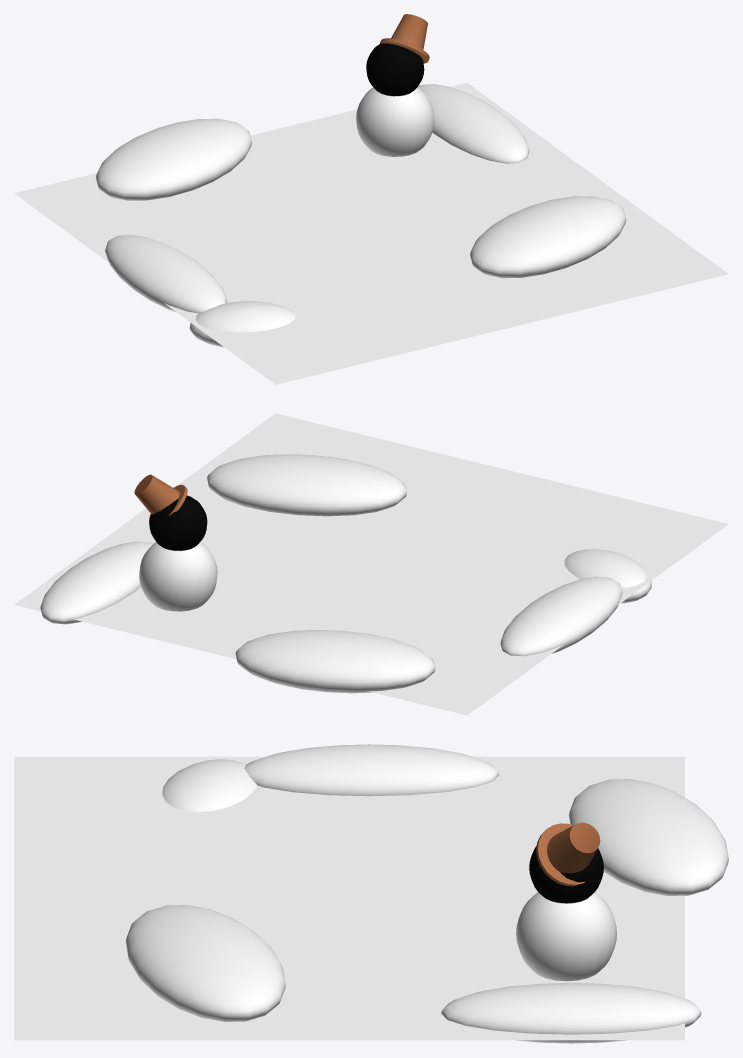
File: snow.obj
3 renders of one model, top to bottom at view 1: azimuth 30°, elevation 25°; view 2: azimuth 150°, elevation 25°; view 3: azimuth 270°, elevation 25°, orthographic. The views are drawn at different scales.
Parts seen in each view (by area): view 1: pPlane1, pSphere5, pSphere4, pSphere1, pSphere3, pSphere6, pSphere2, pSphere7, pCylinder1; view 2: pPlane1, pSphere4, pSphere5, pSphere1, pSphere3, pSphere6, pSphere2, pSphere7, pCylinder1; view 3: pPlane1, pSphere5, pSphere4, pSphere3, pSphere1, pSphere6, pSphere2, pCylinder1, pSphere7.
Boxes of the visible parts, x1,y1,x2,y2 form: pPlane1: [14, 83, 728, 384]; pSphere5: [470, 196, 626, 278]; pSphere4: [95, 118, 252, 200]; pSphere1: [105, 235, 227, 313]; pSphere3: [417, 84, 529, 163]; pSphere6: [356, 87, 434, 156]; pSphere2: [189, 301, 295, 347]; pSphere7: [366, 43, 424, 95]; pCylinder1: [380, 14, 429, 63]; pPlane1: [14, 413, 728, 715]; pSphere4: [235, 630, 435, 693]; pSphere5: [207, 454, 406, 516]; pSphere1: [500, 576, 622, 656]; pSphere3: [40, 541, 152, 624]; pSphere6: [139, 542, 217, 611]; pSphere2: [564, 549, 651, 603]; pSphere7: [149, 495, 207, 550]; pCylinder1: [134, 474, 187, 522]; pPlane1: [14, 756, 684, 1040]; pSphere5: [125, 905, 285, 1021]; pSphere4: [568, 779, 728, 895]; pSphere3: [441, 983, 701, 1043]; pSphere1: [244, 744, 499, 796]; pSphere6: [516, 892, 616, 981]; pSphere2: [162, 759, 257, 812]; pCylinder1: [536, 822, 600, 886]; pSphere7: [529, 846, 603, 903].
Size of the model in its own units: 13.42 by 4.09 by 14.14.
3 materials, 3 textured.
